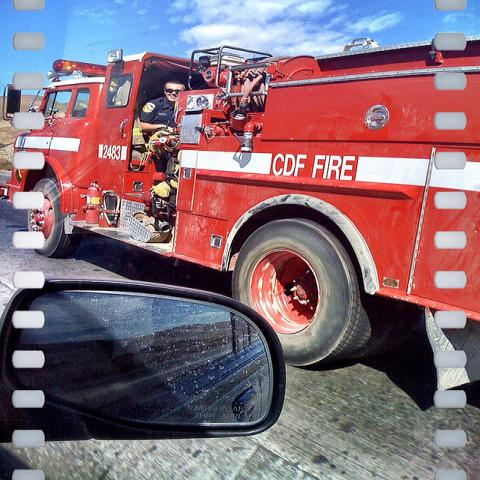truck: (0, 33, 479, 394)
